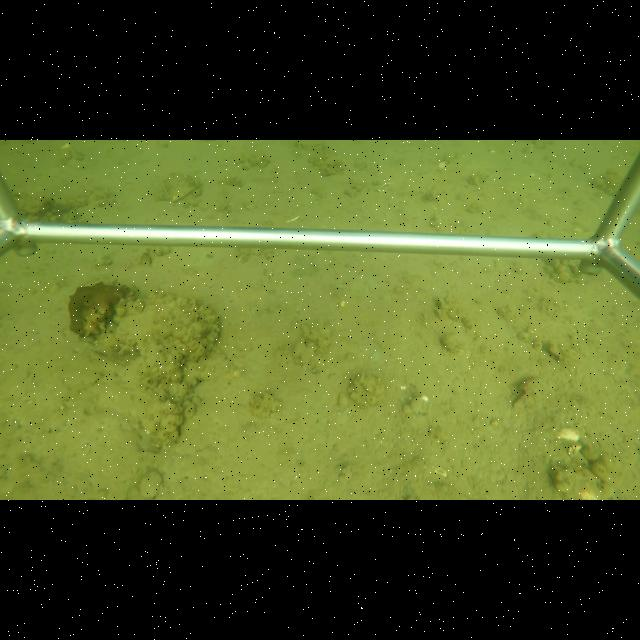Oyster-Closed: (168, 184, 196, 203)
